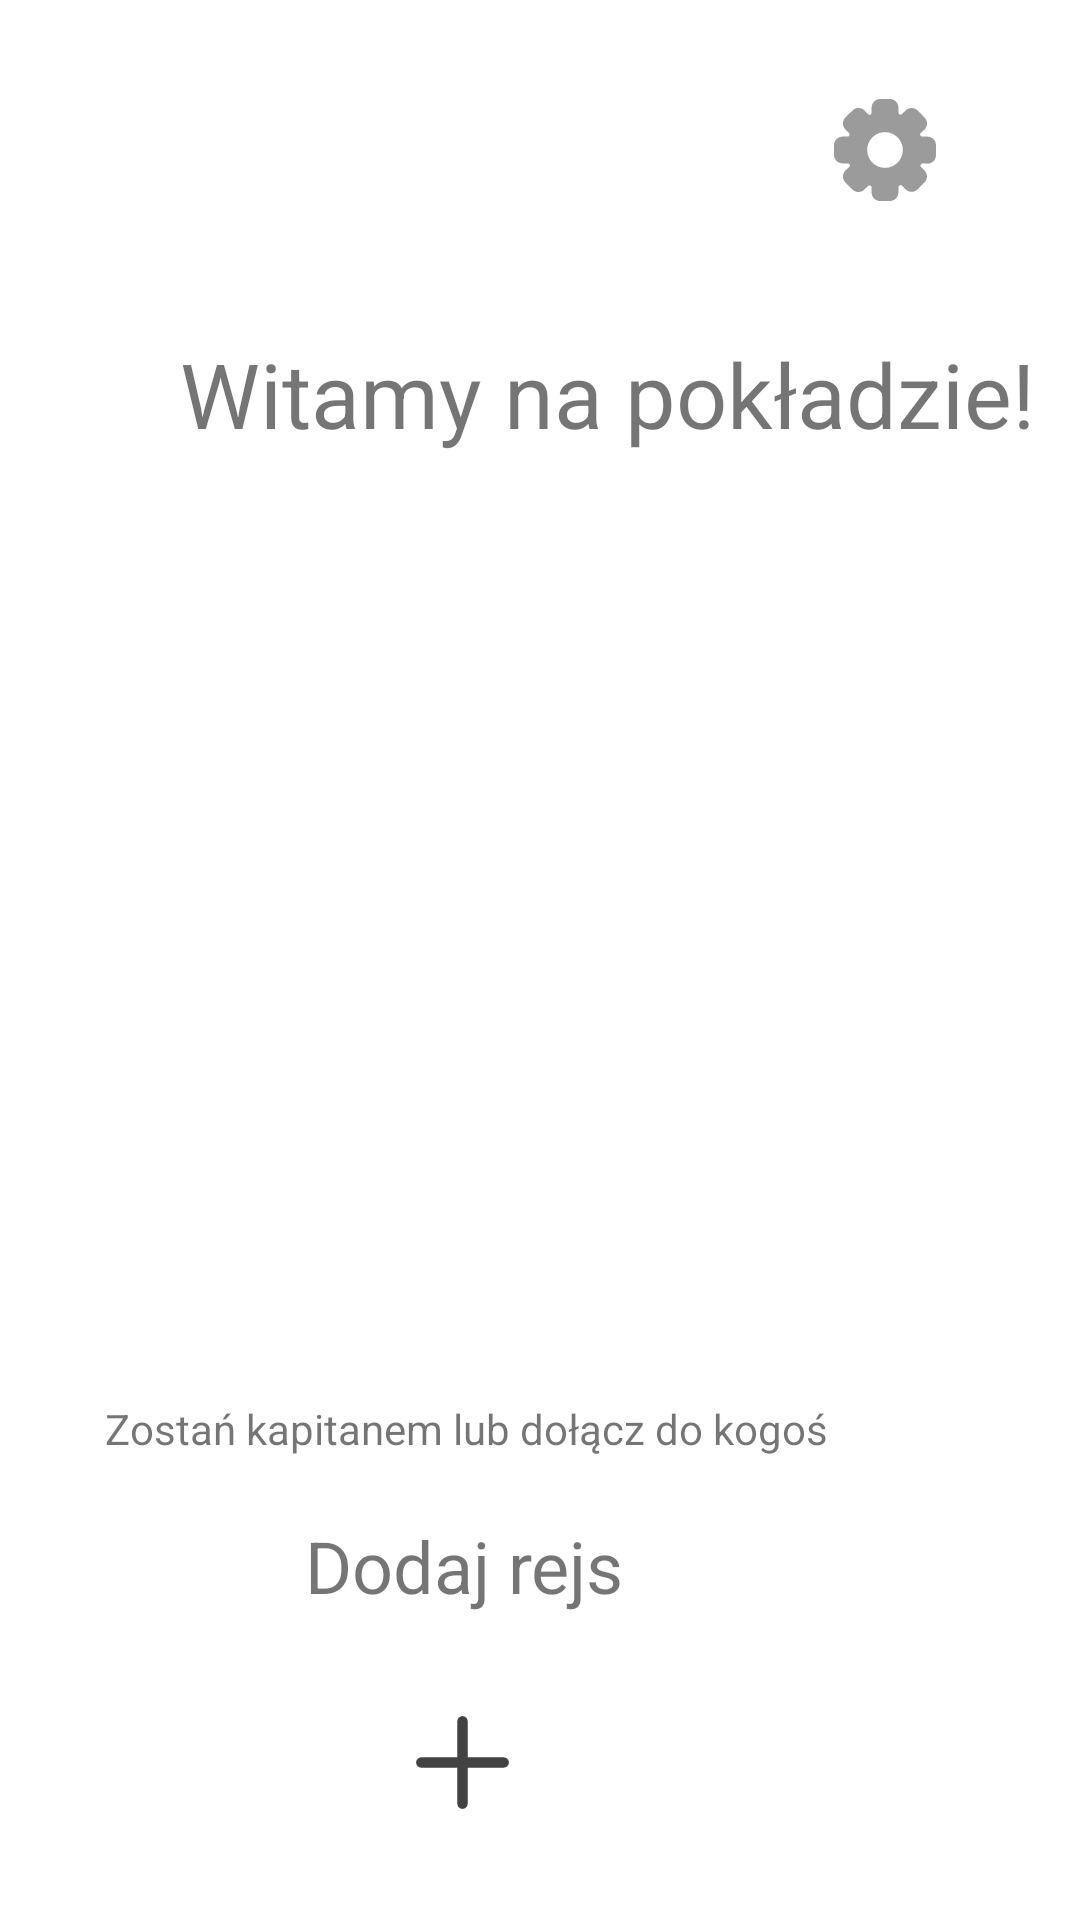

Where to tap for icons on this 1080×1920 app screen, as [x,y]:
bi plus: [462,1762]
settings view: [885,150]
